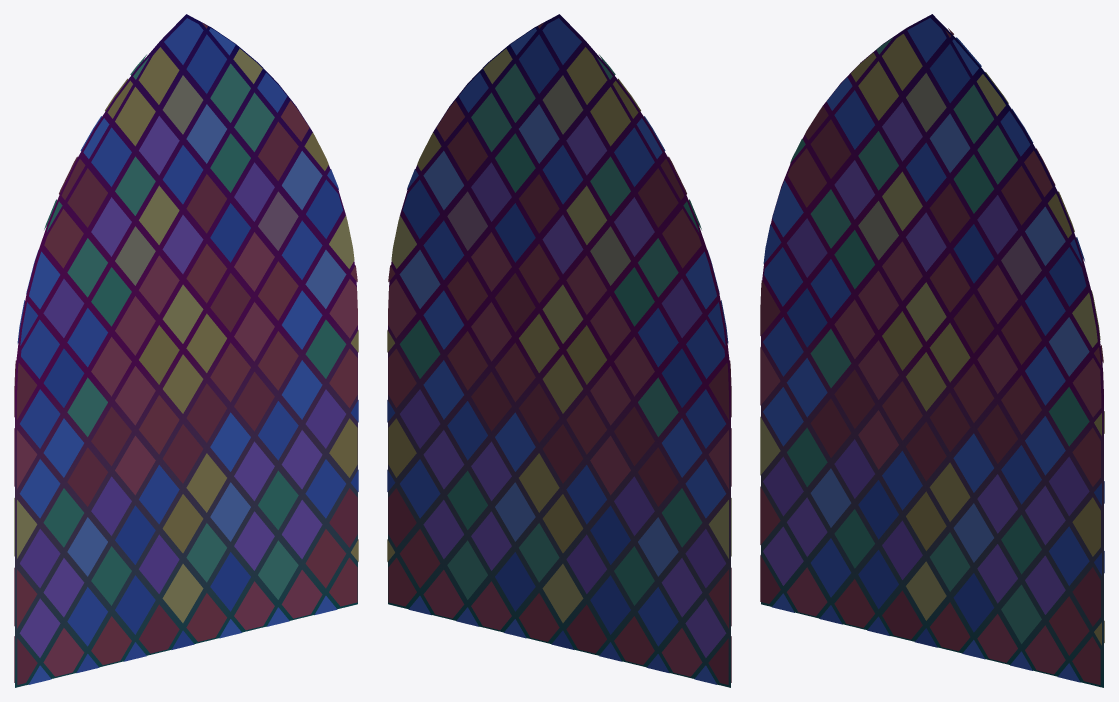
The model's file is glass_lancet.glb.
3 views of the same model, side by side, from view 1: azimuth 30°, elevation 25°; view 2: azimuth 150°, elevation 25°; view 3: azimuth 330°, elevation 25° (orthographic).
Parts seen in each view (by area): view 1: glass_lancet, glass_backing; view 2: glass_lancet, glass_backing; view 3: glass_lancet, glass_backing.
Boxes of the visible parts, x1,y1,x2,y2 form: glass_lancet: [14, 18, 358, 684]; glass_backing: [15, 14, 357, 687]; glass_lancet: [387, 18, 731, 684]; glass_backing: [388, 14, 730, 687]; glass_lancet: [760, 18, 1104, 685]; glass_backing: [761, 14, 1103, 687].
Bounding box in the file's own units: 1.44 × 2.54 × 0.02.
